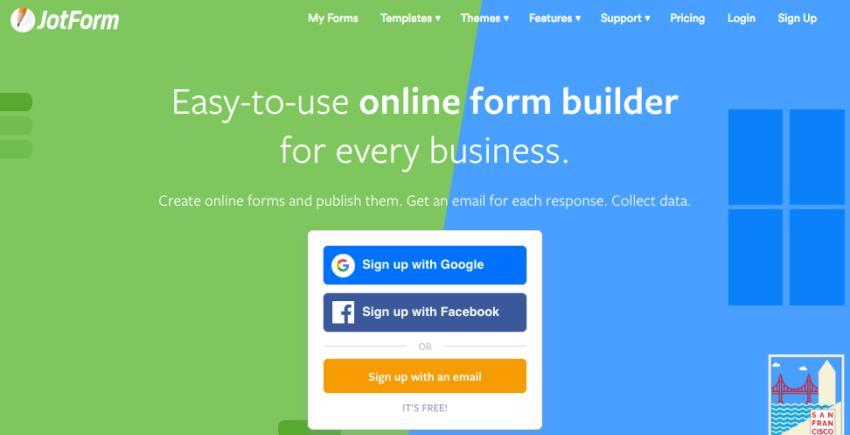button: (324, 245, 528, 287), (325, 293, 528, 335), (322, 358, 529, 397)
icon: (10, 8, 36, 35), (434, 14, 445, 23), (575, 15, 584, 24), (645, 14, 654, 23), (502, 15, 511, 23)
label: (39, 9, 123, 36), (379, 11, 435, 28), (307, 12, 363, 28), (527, 11, 573, 27), (599, 12, 644, 27), (460, 11, 502, 27), (775, 12, 820, 26), (724, 12, 761, 28), (667, 13, 708, 27)
